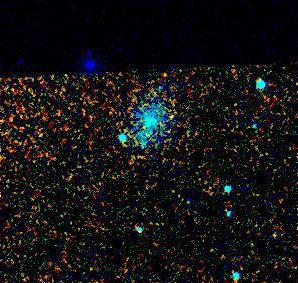star: (157, 103, 187, 133)
